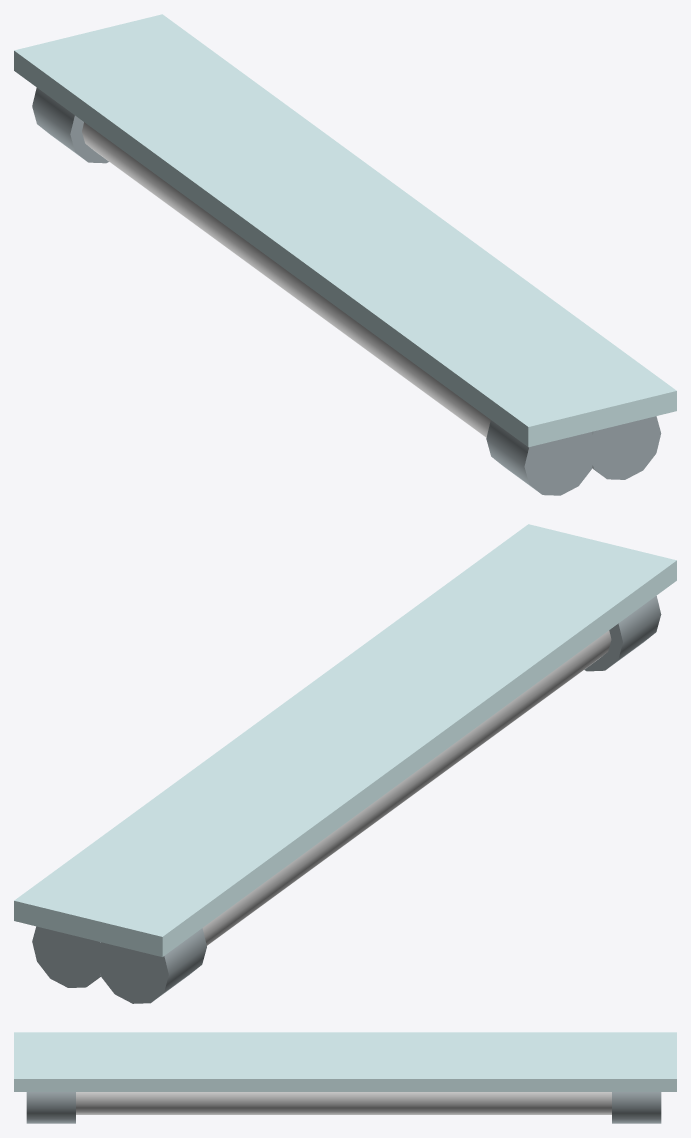
The model's file is Lamp.fbx.
The picture shows the model from 3 angles, top to bottom: view 1: azimuth 30°, elevation 25°; view 2: azimuth 150°, elevation 25°; view 3: azimuth 270°, elevation 25°; orthographic projection. The views are drawn at different scales.
Visible parts, largest first — view 1: Lamp:lamp; view 2: Lamp:lamp; view 3: Lamp:lamp.
Boxes of the visible parts, x1,y1,x2,y2 form: Lamp:lamp: (14, 14, 676, 495); Lamp:lamp: (14, 524, 676, 1003); Lamp:lamp: (14, 1032, 676, 1123).
Size of the model in its own units: 0.2 by 0.1109 by 1.2.
